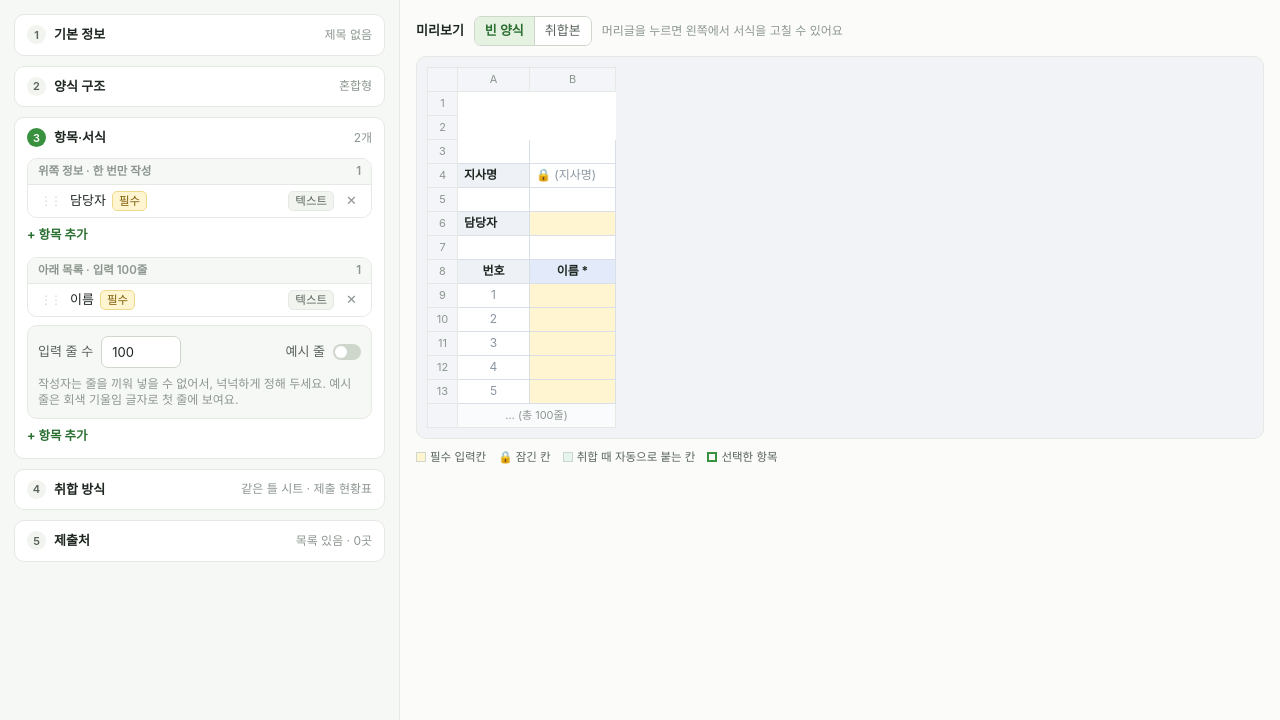
Scenario: 시트 모으기형: 제작한 양식으로 보내기 → 표 그리기, 미리보기 4행부터 반영
The image size is (1280, 720).
Click the button "2 양식 구조 혼합형".
click(80, 86)  # box [15, 66, 384, 106]
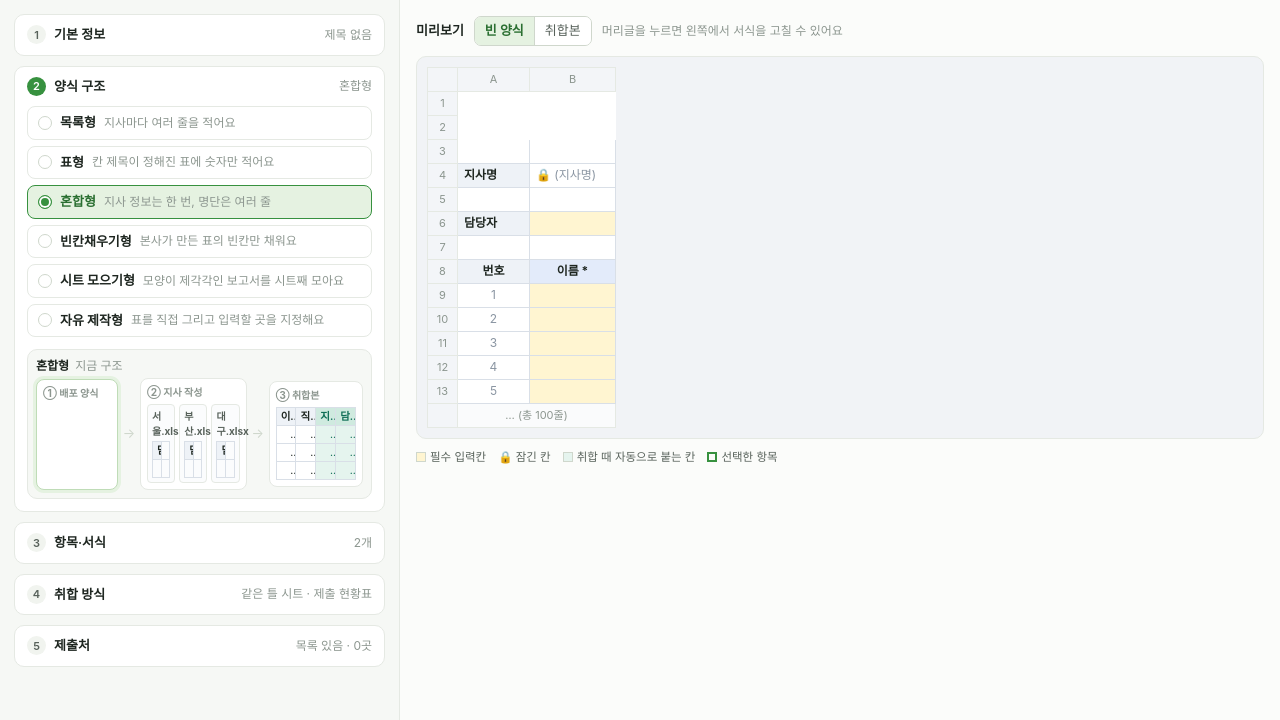
Click the radio button labelled "시트 모으기형 모양이 제각각인 보고서를 시트째 모아요".
click(200, 281)  # box [27, 264, 372, 298]
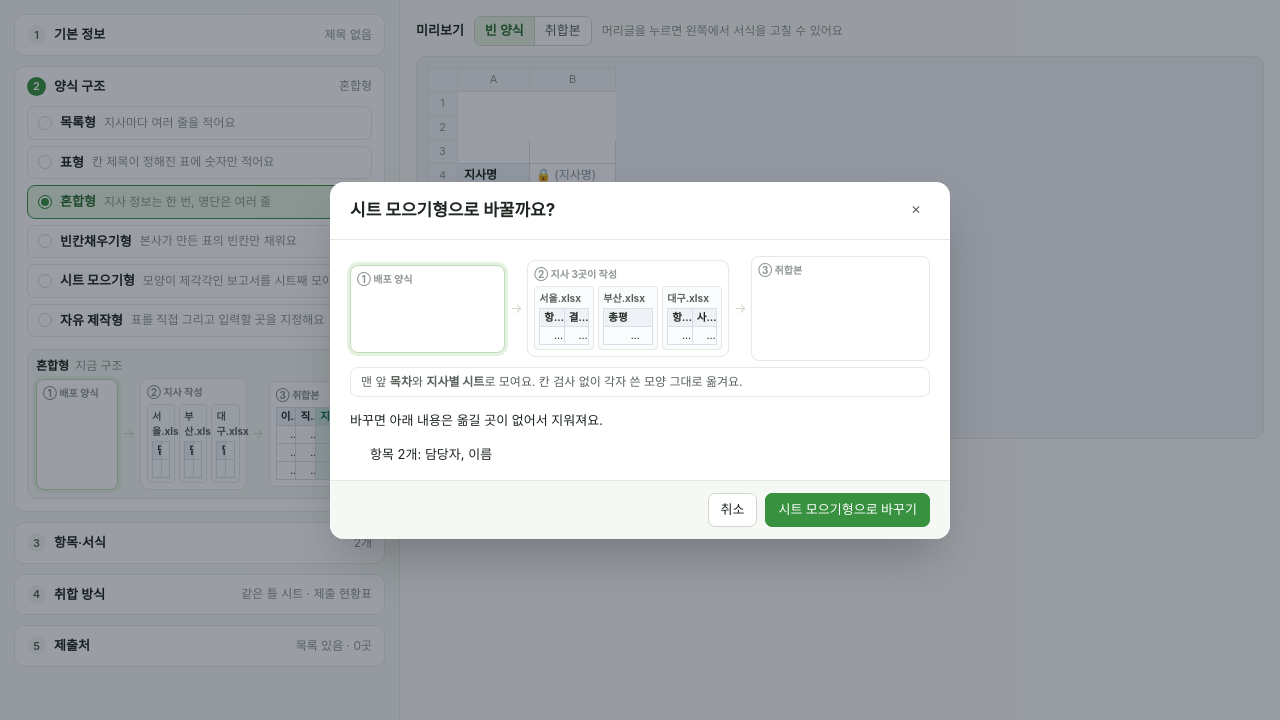
Click the button "시트 모으기형으로 바꾸기".
click(848, 510)  # box [766, 493, 930, 526]
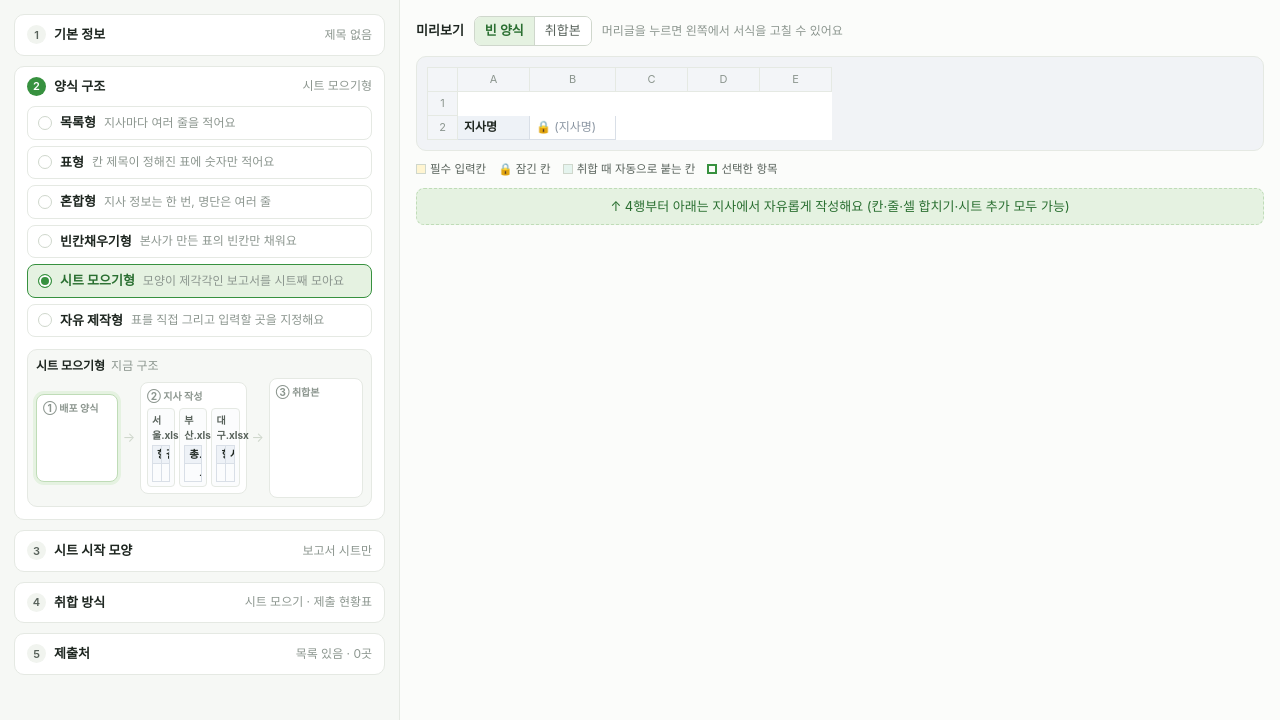
Click the button "3 시트 시작 모양 보고서 시트만".
click(93, 550)  # box [15, 531, 384, 570]
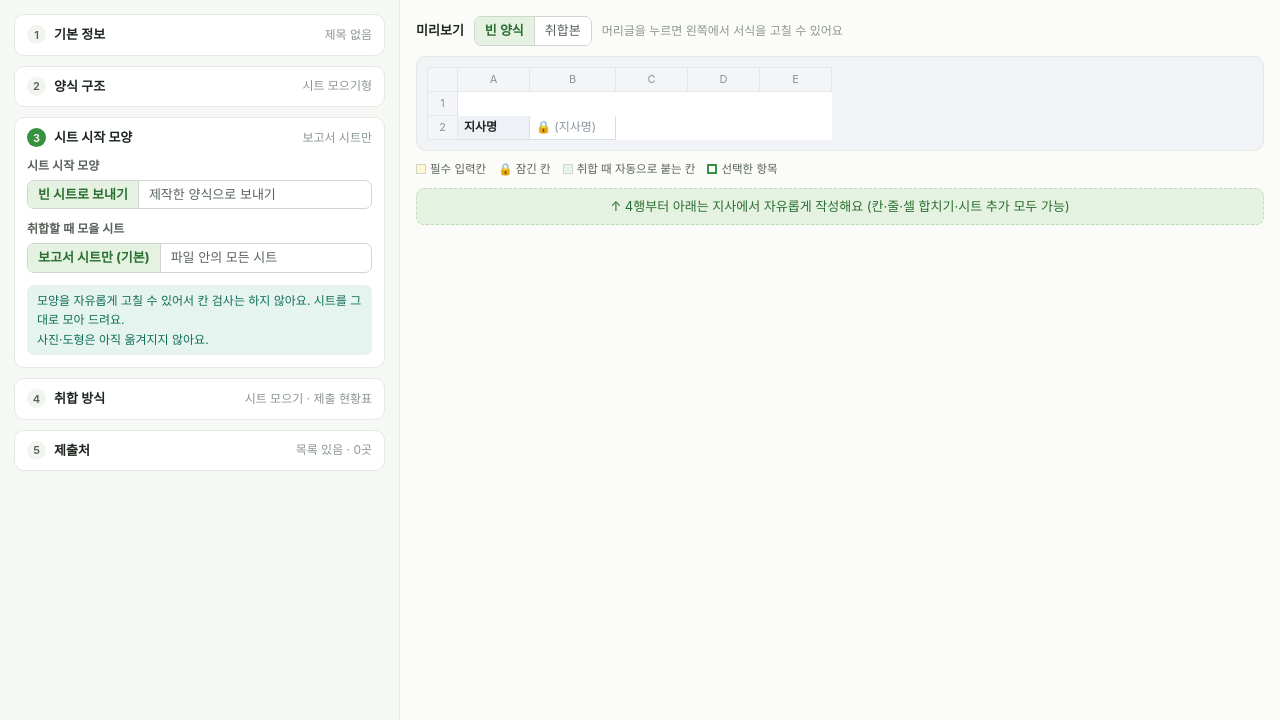
Click the radio button labelled "제작한 양식으로 보내기".
click(212, 194)  # box [139, 180, 286, 208]
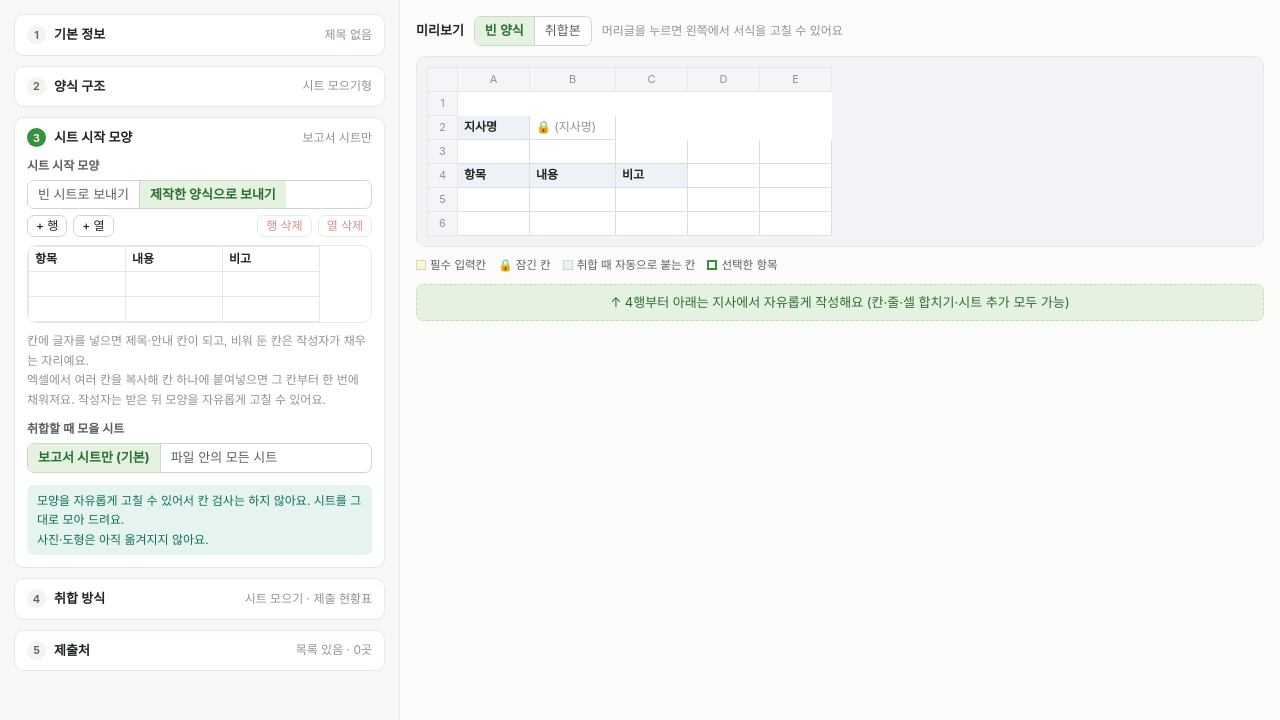
Type "소화기" into the field named "2행 1열".
click(77, 284); type("소화기")  # box [29, 272, 125, 296]
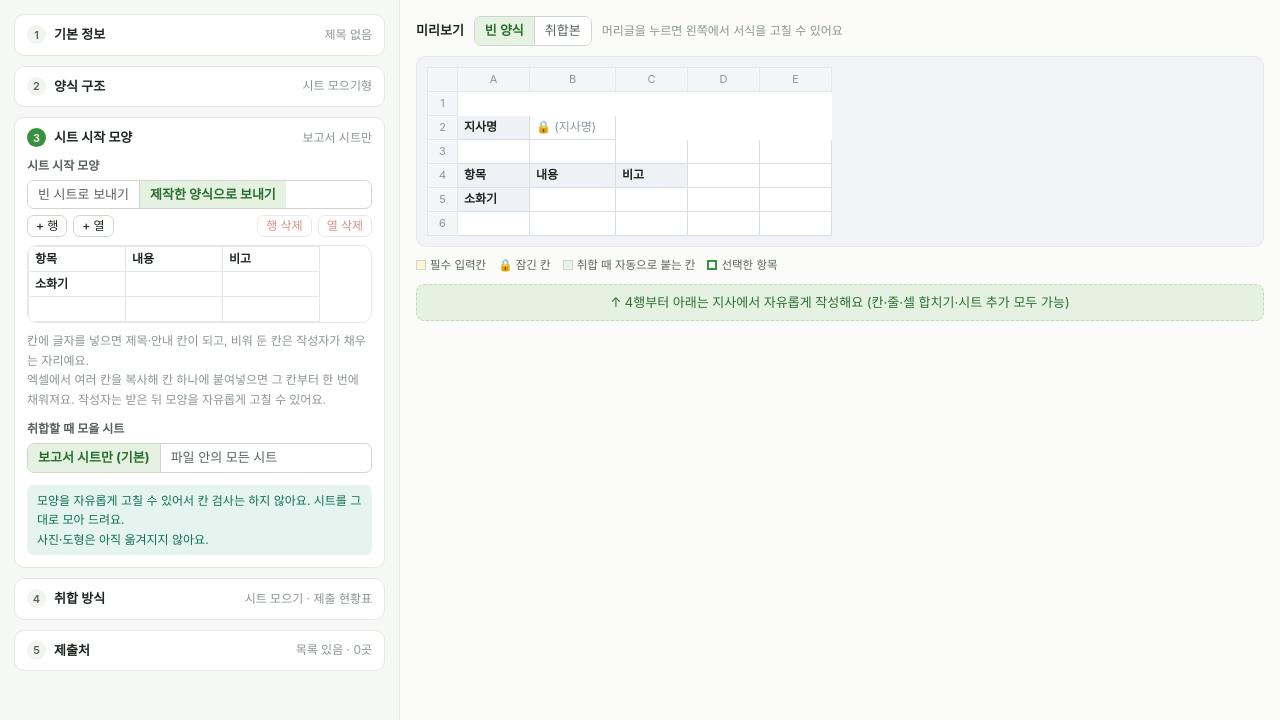
Now the text "항목" is shown, box [458, 163, 530, 187]
Now the text "소화기" is shown, box [458, 187, 530, 211]
